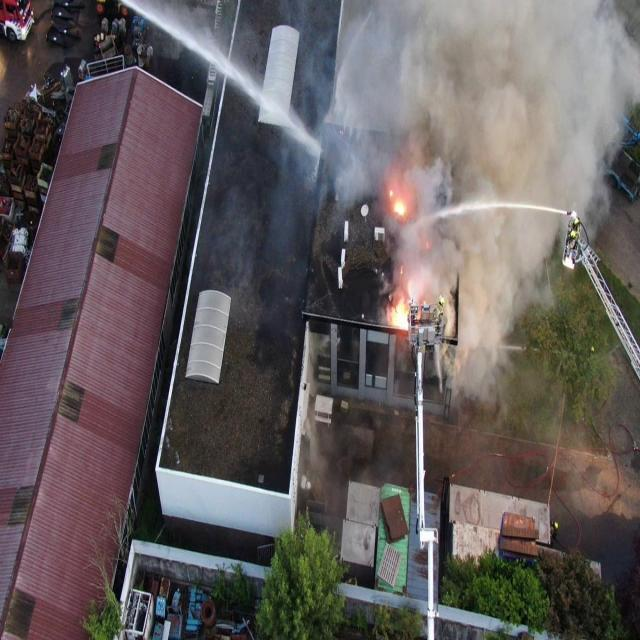Fire: (391, 298, 408, 330), (394, 198, 406, 216), (399, 265, 404, 274), (390, 191, 392, 197)
Smoke: (317, 0, 640, 405), (303, 332, 331, 472)
